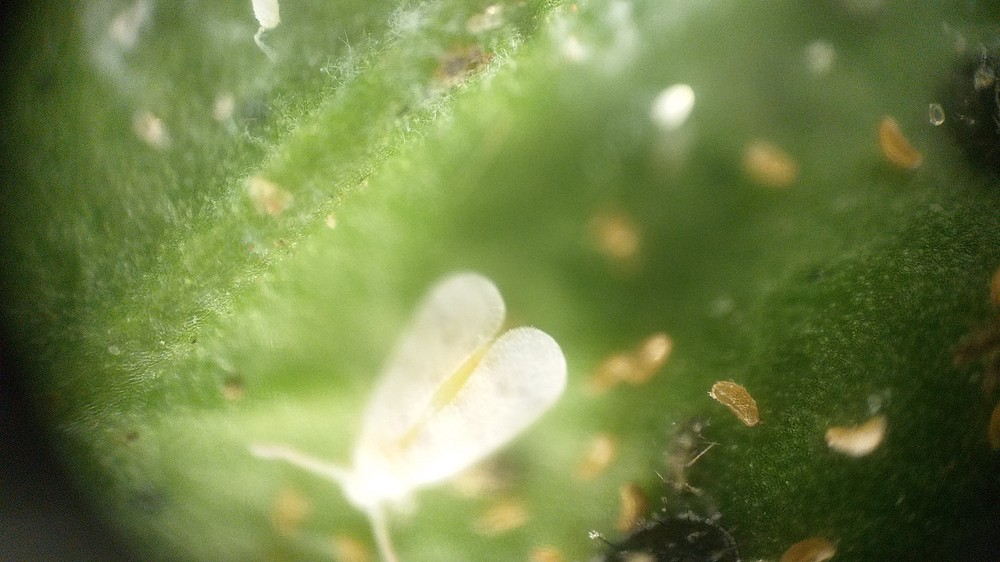Mosca Blanca: (242, 264, 589, 560)
